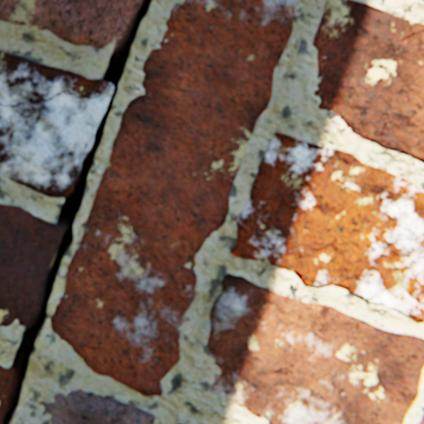brick: (51, 0, 296, 394), (230, 132, 423, 321), (207, 273, 423, 423), (312, 0, 423, 161), (0, 51, 113, 197), (0, 203, 65, 325), (0, 0, 139, 48), (40, 388, 154, 423), (0, 364, 12, 418), (416, 409, 423, 423)
crack: (0, 0, 151, 423), (45, 90, 80, 101), (399, 28, 423, 41), (0, 99, 35, 107)
